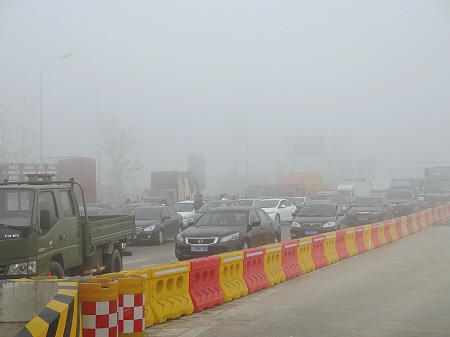bus: (1, 179, 136, 291), (1, 157, 97, 218), (151, 171, 197, 216), (424, 166, 450, 209), (390, 178, 418, 198)
car: (174, 207, 282, 268), (290, 201, 350, 243), (122, 205, 184, 245), (110, 203, 165, 232), (58, 208, 112, 237), (196, 200, 243, 232), (347, 195, 390, 227), (251, 199, 299, 226), (76, 203, 116, 235), (225, 198, 267, 226), (170, 200, 207, 228), (384, 190, 418, 217), (279, 197, 316, 217), (336, 185, 356, 208)
